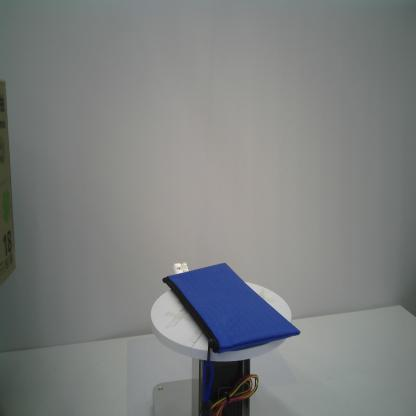Stationery: (161, 258, 303, 408)
